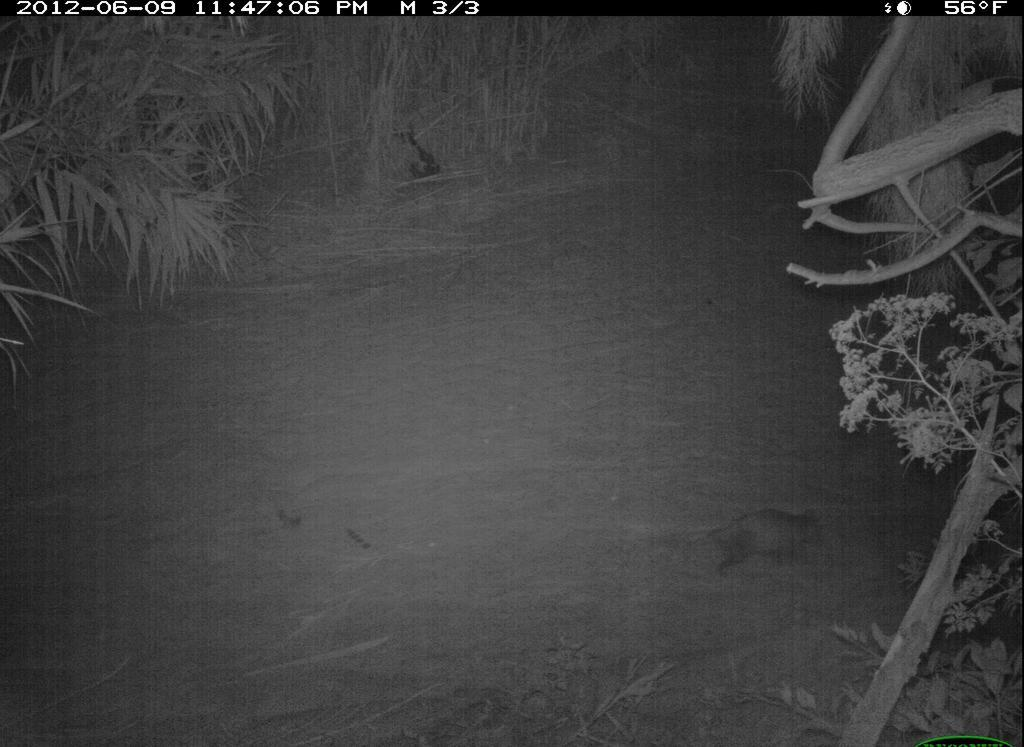opossum: (666, 490, 833, 590)
